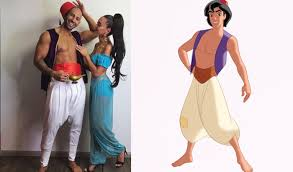middle_eastern_male: (66, 5, 81, 31)
